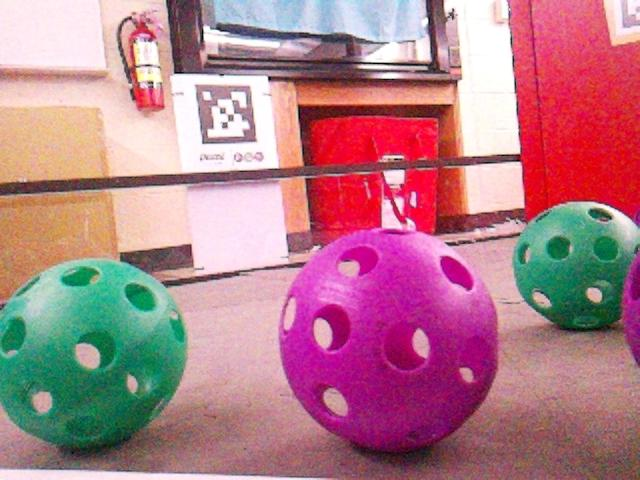Green: (0, 257, 188, 450), (512, 201, 639, 330)
Purple: (279, 228, 499, 450), (621, 242, 640, 373)
